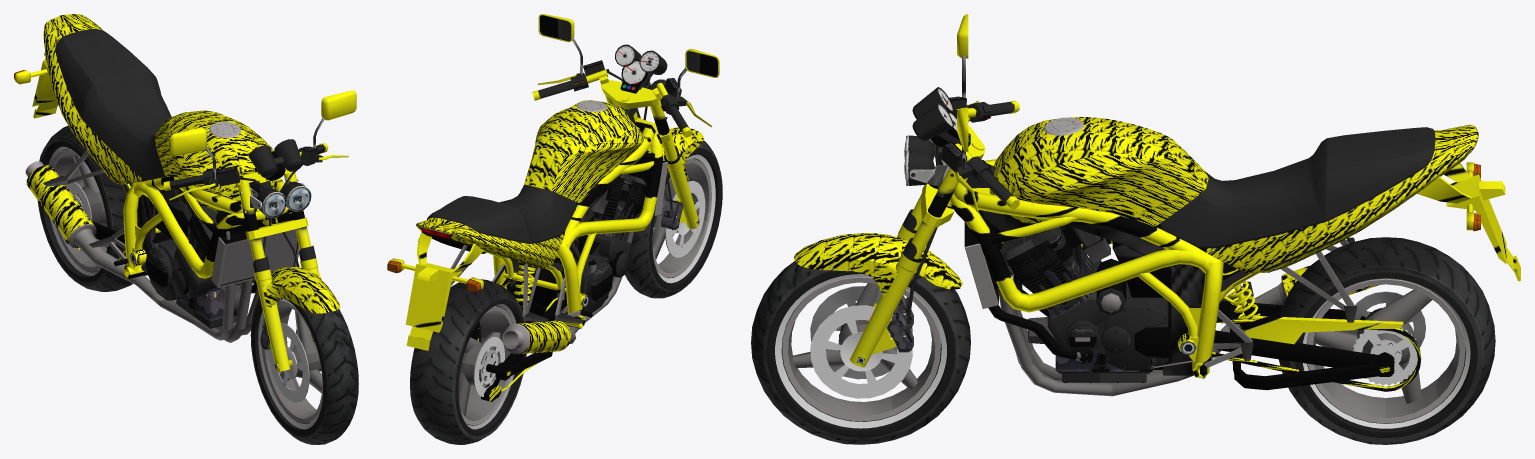
File: SuperMotors_4_.fbx
3 renders of one model, left to right at view 1: azimuth 30°, elevation 25°; view 2: azimuth 150°, elevation 25°; view 3: azimuth 270°, elevation 25°, orthographic. The views are drawn at different scales.
Parts seen in each view (by area): view 1: SuperMotors_4_010, SuperMotors_4_003, SuperMotors_4_001, SuperMotors_4_011, SuperMotors_4_013, SuperMotors_4_009, SuperMotors_4_016, SuperMotors_4_017, SuperMotors_4_012.001, SuperMotors_4_012, SuperMotors_4_002, SuperMotors_4_019 (+4 smaller); view 2: SuperMotors_4_010, SuperMotors_4_001, SuperMotors_4_003, SuperMotors_4_011, SuperMotors_4_002, SuperMotors_4_017, SuperMotors_4_013, SuperMotors_4_015, SuperMotors_4_009, SuperMotors_4_016, SuperMotors_4_012.001, SuperMotors_4_020 (+3 smaller); view 3: SuperMotors_4_010, SuperMotors_4_001, SuperMotors_4_003, SuperMotors_4_011, SuperMotors_4_015, SuperMotors_4_013, SuperMotors_4_012, SuperMotors_4_002, SuperMotors_4_017, SuperMotors_4_016, SuperMotors_4_009, SuperMotors_4_012.001 (+1 smaller).
Boxes of the visible parts, box(x1,y1,x2,y2) form: SuperMotors_4_010: box(43, 14, 299, 342); SuperMotors_4_003: box(250, 296, 358, 444); SuperMotors_4_001: box(37, 126, 133, 291); SuperMotors_4_011: box(122, 177, 293, 278); SuperMotors_4_013: box(253, 232, 340, 371); SuperMotors_4_009: box(25, 161, 194, 323); SuperMotors_4_016: box(235, 169, 310, 260); SuperMotors_4_017: box(163, 143, 348, 225); SuperMotors_4_012.001: box(249, 139, 302, 177); SuperMotors_4_012: box(121, 181, 277, 273); SuperMotors_4_002: box(15, 51, 58, 118); SuperMotors_4_019: box(170, 127, 215, 179); SuperMotors_4_010: box(416, 100, 668, 323); SuperMotors_4_001: box(410, 279, 526, 444); SuperMotors_4_003: box(625, 140, 722, 298); SuperMotors_4_011: box(483, 112, 663, 328); SuperMotors_4_002: box(389, 232, 483, 350); SuperMotors_4_017: box(532, 60, 711, 137); SuperMotors_4_013: box(646, 127, 703, 229); SuperMotors_4_015: box(470, 262, 563, 401); SuperMotors_4_009: box(502, 316, 585, 354); SuperMotors_4_016: box(602, 89, 677, 161); SuperMotors_4_012.001: box(615, 44, 667, 89); SuperMotors_4_020: box(538, 14, 582, 74); SuperMotors_4_010: box(964, 117, 1478, 396); SuperMotors_4_001: box(1278, 237, 1495, 444); SuperMotors_4_003: box(751, 261, 970, 444); SuperMotors_4_011: box(946, 159, 1258, 378); SuperMotors_4_015: box(1211, 266, 1421, 391); SuperMotors_4_013: box(794, 209, 962, 367); SuperMotors_4_012: box(966, 163, 1255, 375); SuperMotors_4_002: box(1417, 162, 1520, 281); SuperMotors_4_017: box(935, 96, 1019, 212); SuperMotors_4_016: box(911, 141, 984, 259); SuperMotors_4_009: box(1112, 266, 1379, 395); SuperMotors_4_012.001: box(912, 87, 961, 144).
Size of what is drawn, in the model's own units: 57.14 by 86.85 by 162.
